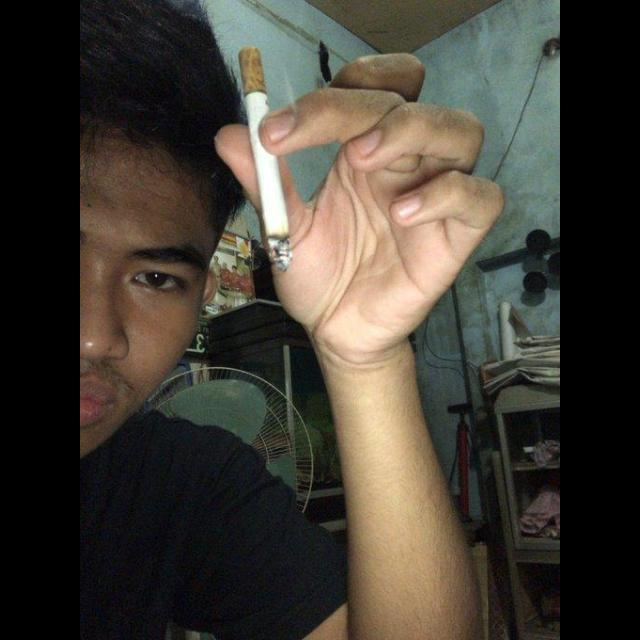rokok: (230, 41, 302, 280)
